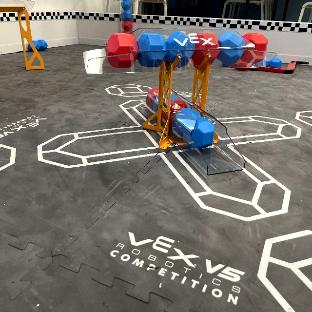Goal: (0, 0, 43, 70)
Parking-R: (232, 55, 295, 73)
V5_BLUE: (138, 51, 165, 66), (218, 48, 242, 64)
V5_RED: (106, 32, 137, 67), (192, 33, 217, 61), (244, 33, 267, 50), (109, 54, 135, 67)
blueingoal: (173, 108, 214, 147), (174, 108, 198, 135)
